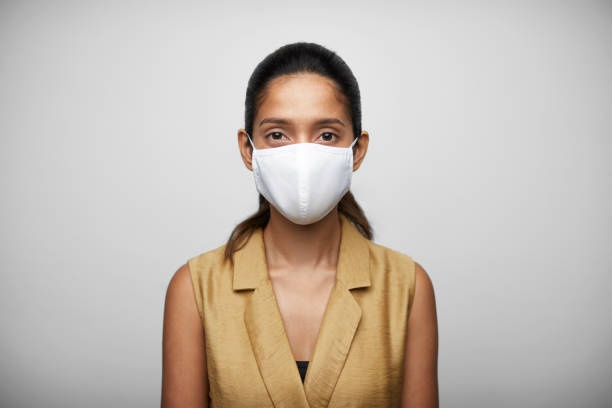mask: (234, 40, 371, 228)
person: (155, 39, 441, 408)
